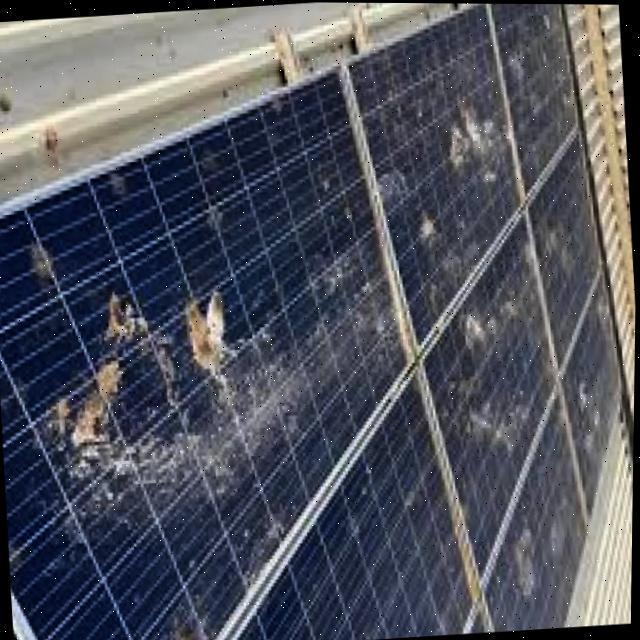Anomaly Solar Panel: (0, 68, 413, 640), (232, 367, 480, 640), (346, 3, 522, 351), (421, 209, 559, 582), (482, 386, 588, 631), (525, 130, 601, 373), (487, 3, 576, 199), (560, 271, 622, 526)
Surface Contaminant: (34, 294, 253, 523), (350, 5, 518, 197), (554, 284, 628, 523), (526, 136, 610, 346), (489, 2, 582, 190), (320, 257, 397, 379), (448, 394, 532, 457), (450, 288, 523, 357), (504, 520, 551, 596), (425, 572, 470, 636), (156, 606, 215, 640), (26, 244, 54, 285)
